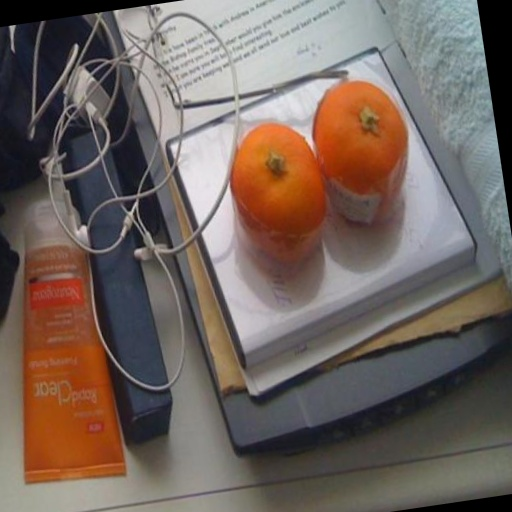fruit: (313, 80, 408, 222), (231, 123, 326, 263)
